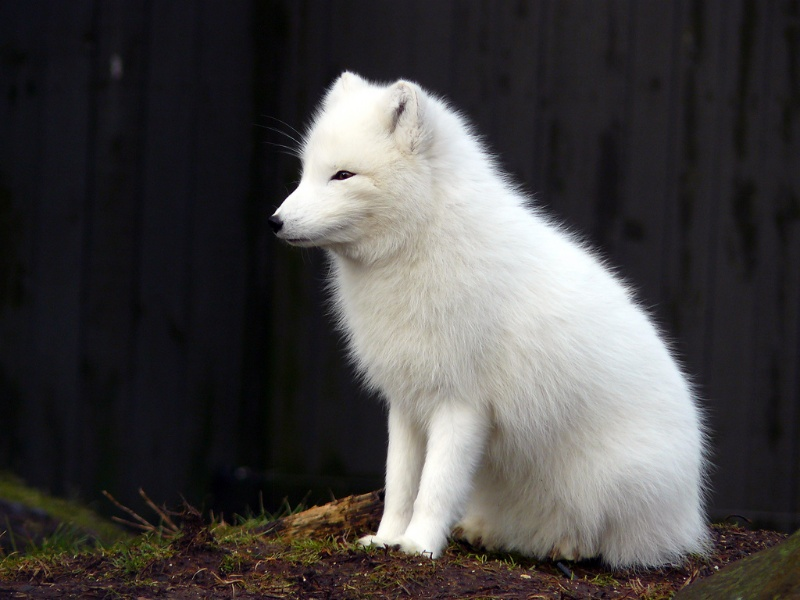fox: (271, 65, 719, 569)
